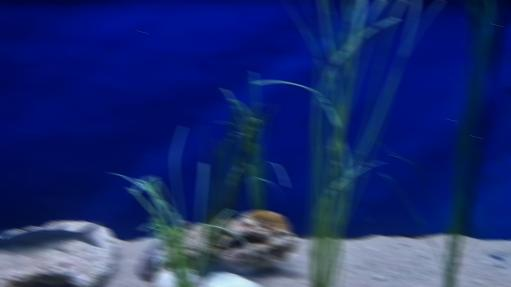Fish: (0, 221, 101, 255)
